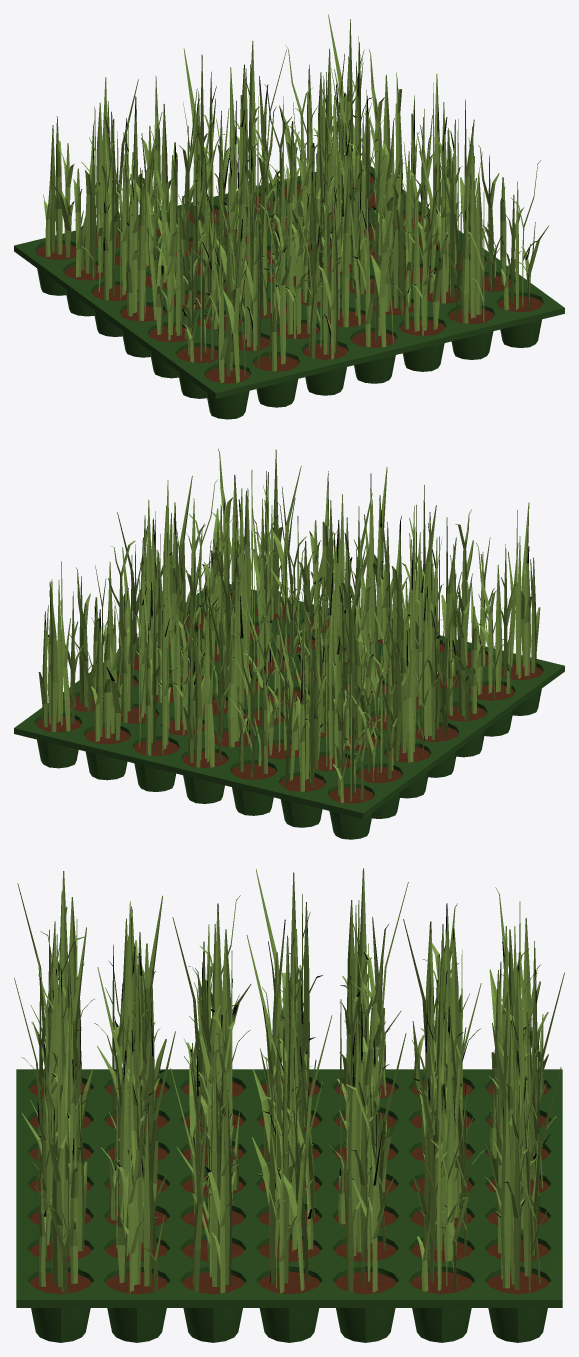
Rendered from Nursery_RiceSaplings.glb.
3 renders of one model, top to bottom at view 1: azimuth 30°, elevation 25°; view 2: azimuth 150°, elevation 25°; view 3: azimuth 270°, elevation 25°, orthographic. The views are drawn at different scales.
Visible parts, largest first — view 1: Nursery_RiceSaplings; view 2: Nursery_RiceSaplings; view 3: Nursery_RiceSaplings.
Part boxes in pixels (left/top/right/bottom): Nursery_RiceSaplings: left=14, top=14, right=564, bottom=419; Nursery_RiceSaplings: left=14, top=448, right=564, bottom=839; Nursery_RiceSaplings: left=14, top=868, right=564, bottom=1342.
Bounding box in the file's own units: 3.58 × 1.95 × 3.61.
Materials: 1 (1 with a texture image).
